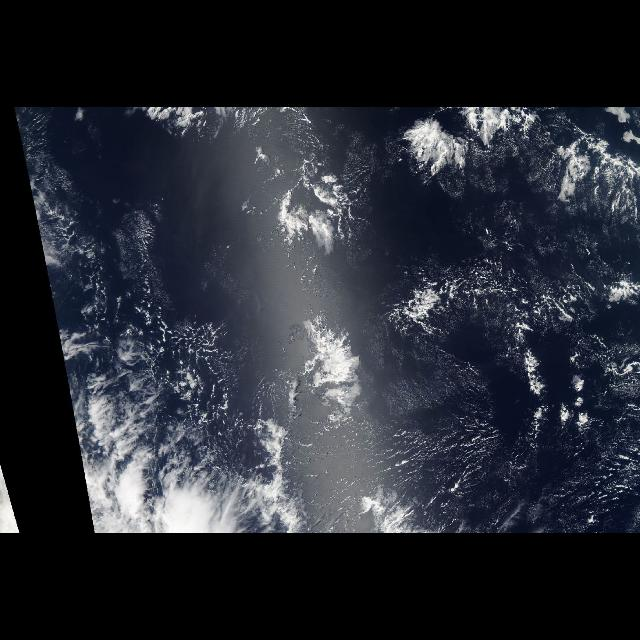Sugar: (368, 341, 516, 511)
